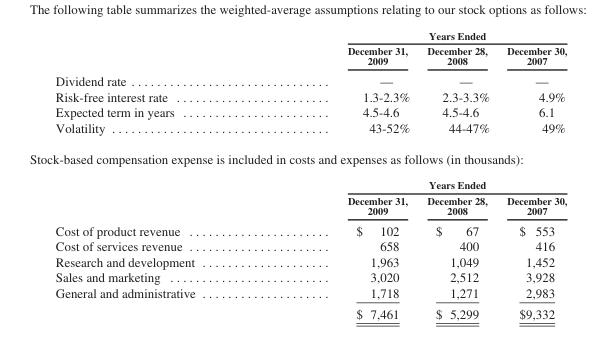table: (28, 28, 566, 320)
table column: (28, 28, 270, 320), (270, 28, 417, 320), (417, 28, 497, 320), (497, 28, 566, 320)
table column header: (28, 28, 566, 70)
table projected row header: (28, 142, 566, 172)
table row: (28, 142, 566, 172), (28, 42, 566, 70), (28, 192, 566, 219), (28, 119, 566, 142), (28, 172, 566, 192), (28, 219, 566, 238), (28, 70, 566, 88), (28, 284, 566, 302), (28, 302, 566, 320), (28, 103, 566, 119), (28, 253, 566, 269), (28, 88, 566, 103), (28, 238, 566, 253), (28, 269, 566, 284), (28, 28, 566, 42)
table spanning cell: (270, 172, 566, 192), (270, 28, 566, 42)
